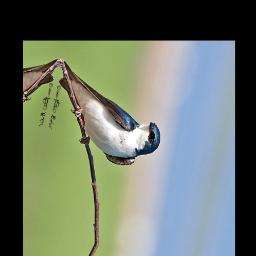Swallow: (43, 60, 174, 176)
